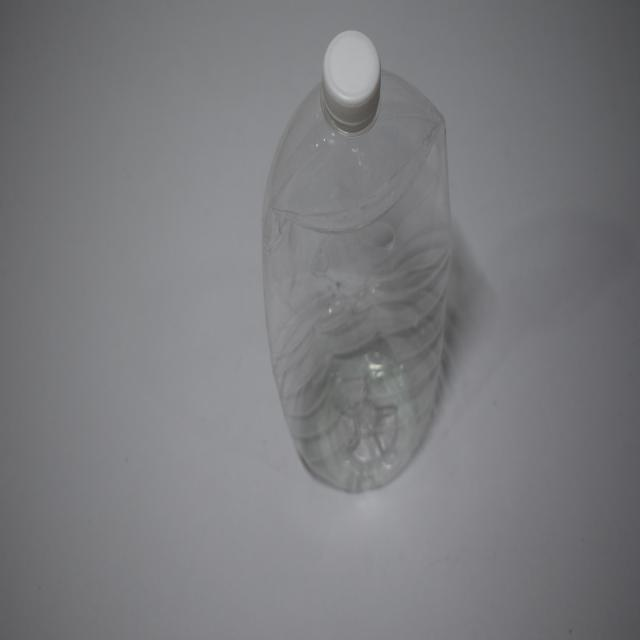bottle: (258, 39, 458, 506)
